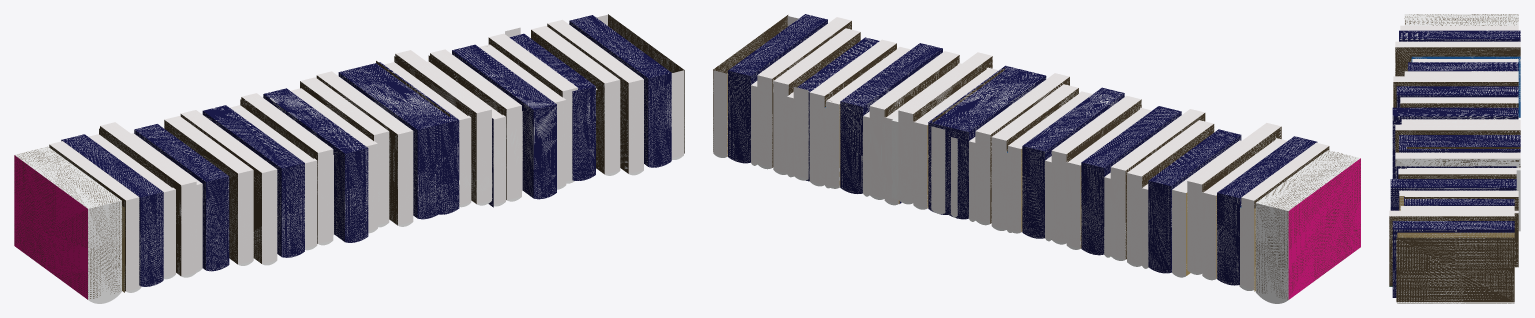
3 renders of one model, left to right at view 1: azimuth 30°, elevation 25°; view 2: azimuth 150°, elevation 25°; view 3: azimuth 270°, elevation 25°, orthographic. The views are drawn at different scales.
Visible parts, largest first — view 1: books; view 2: books; view 3: books.
Part boxes in pixels (x1,y1,x2,y2): books: (14,14,684,303); books: (713,14,1360,303); books: (1389,14,1520,303).
Bounding box in the file's own units: 48.63 × 8.28 × 12.14.
